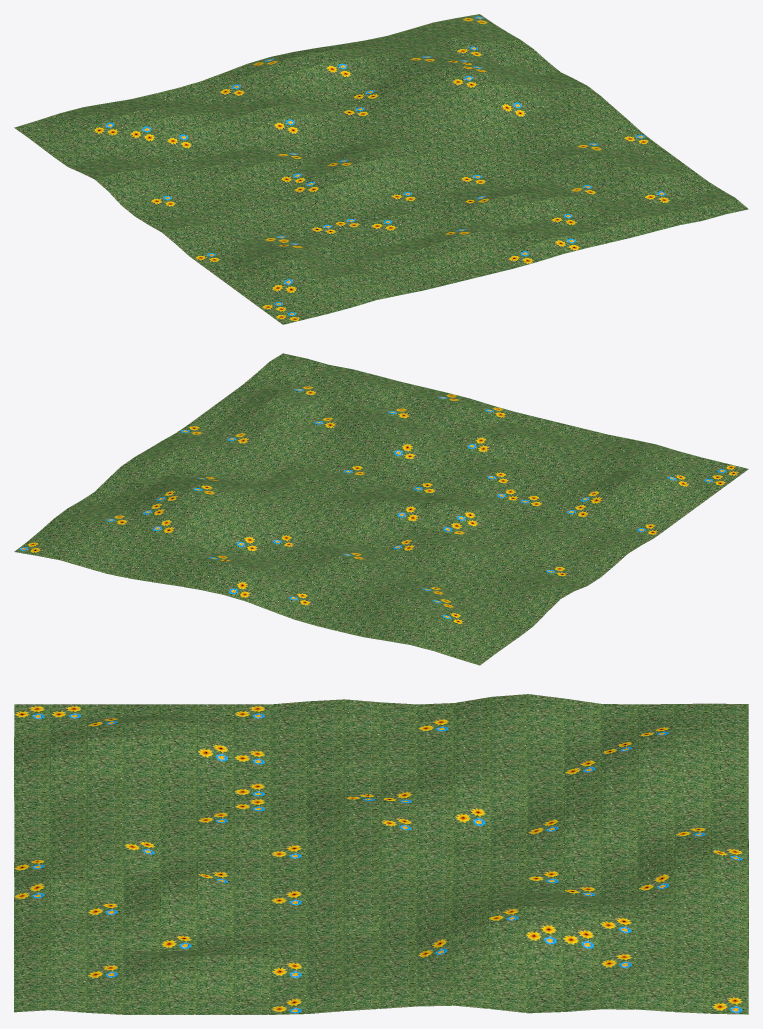
File: landscape.glb
3 renders of one model, top to bottom at view 1: azimuth 30°, elevation 25°; view 2: azimuth 150°, elevation 25°; view 3: azimuth 270°, elevation 25°, orthographic. The views are drawn at different scales.
Parts seen in each view (by area): view 1: LandscapeMesh; view 2: LandscapeMesh; view 3: LandscapeMesh.
Boxes of the visible parts, <box> form: LandscapeMesh: <box>14,14,748,324</box>; LandscapeMesh: <box>14,353,748,665</box>; LandscapeMesh: <box>14,694,748,1014</box>.
Bounding box in the file's own units: 20.02 × 1 × 20.01.
Materials: 1 (1 with a texture image).
